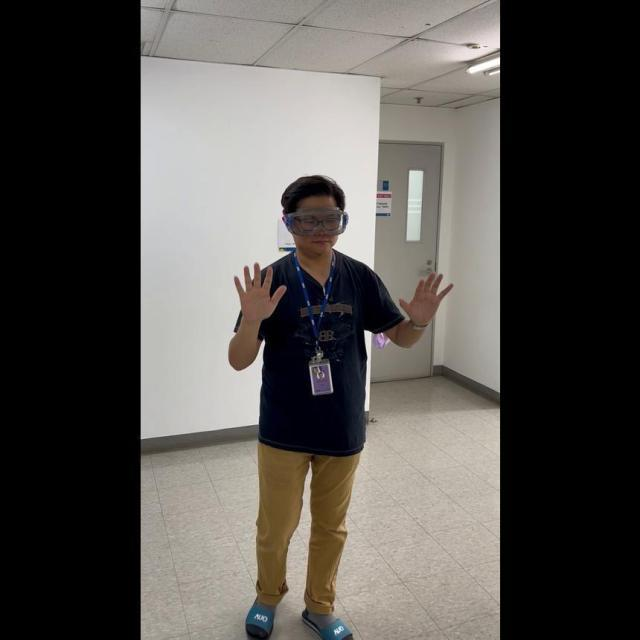bare_hand: (231, 257, 284, 321), (397, 268, 454, 326)
